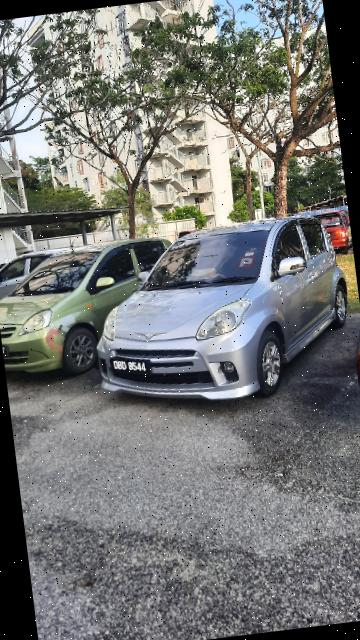License_Plate: (106, 350, 159, 385)
car: (81, 206, 360, 424), (1, 225, 182, 384)
